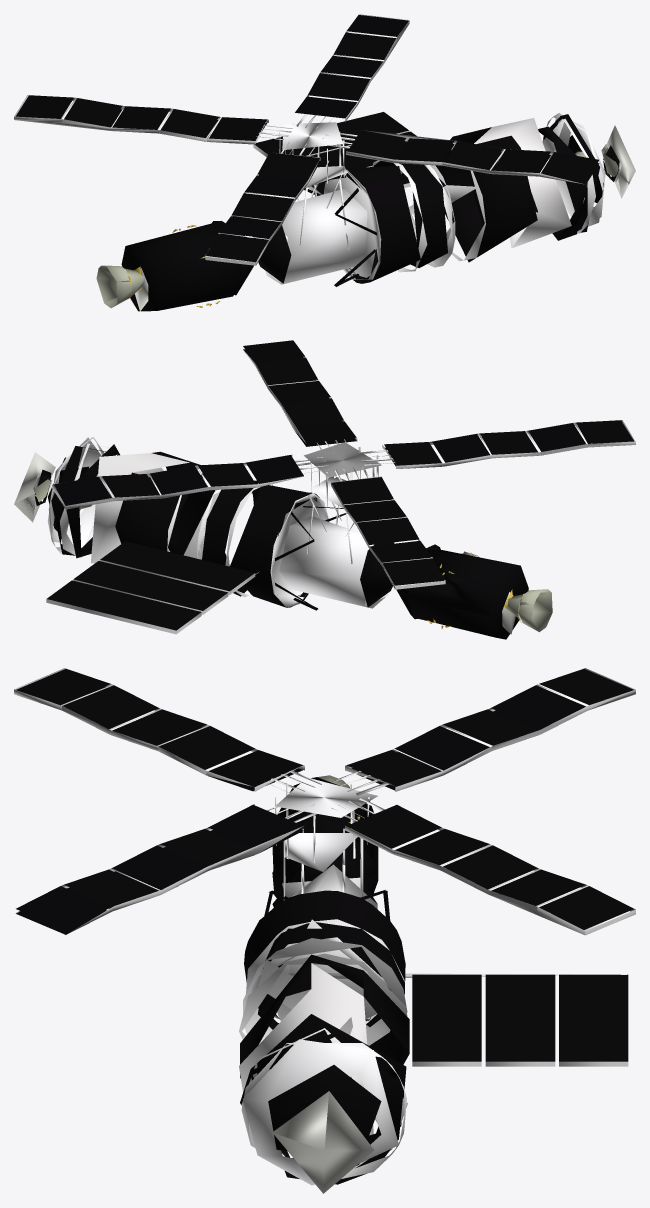
The model's file is skylab.glb.
3 views of the same model, one above another, from view 1: azimuth 30°, elevation 25°; view 2: azimuth 150°, elevation 25°; view 3: azimuth 270°, elevation 25° (orthographic). The views are drawn at different scales.
Parts seen in each view (by area): view 1: polySurfac; view 2: polySurfac; view 3: polySurfac.
Part boxes in pixels (box(x1,y1,x2,y2)): polySurfac: box(14, 14, 635, 311); polySurfac: box(14, 340, 635, 639); polySurfac: box(14, 668, 635, 1193).
Size of the model in its own units: 38.74 by 11.43 by 29.85.
4 materials, 4 textured.
